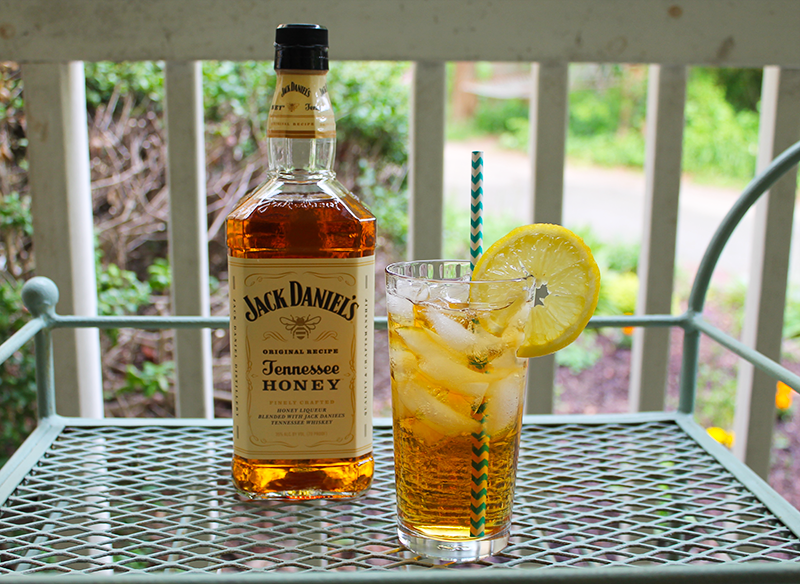Jack Daniel: (209, 11, 388, 510)
